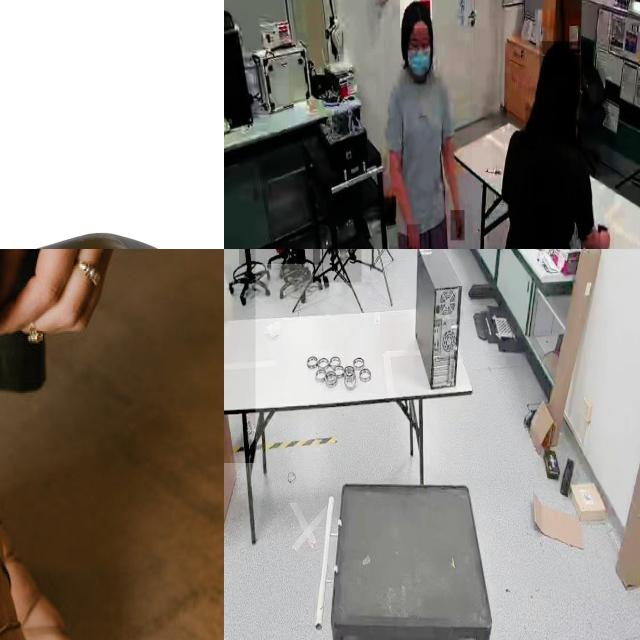face_mask: (401, 30, 433, 84)
hand_noglove: (451, 210, 465, 241), (407, 224, 422, 249), (597, 224, 610, 249)
head_nohelmet: (540, 41, 580, 79), (399, 0, 432, 28)
person: (491, 39, 614, 249), (384, 0, 472, 249)
shoes: (343, 249, 358, 266)
